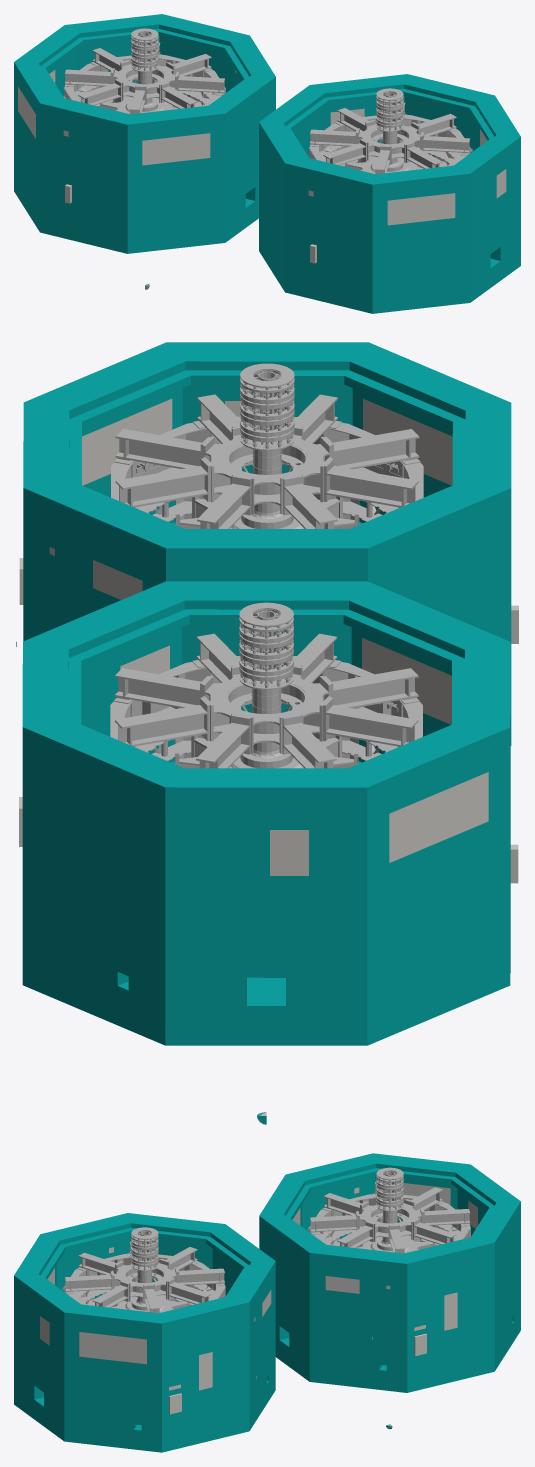
The picture shows the model from 3 angles, top to bottom: view 1: azimuth 30°, elevation 25°; view 2: azimuth 150°, elevation 25°; view 3: azimuth 270°, elevation 25°; orthographic projection. The views are drawn at different scales.
Parts seen in each view (by area): view 1: 15WFXxn1TF6ABc9czwsPRP, 1MUNnhlo1FWRGES8GHzE55, 24WrlE$fT53xBG2T$ta1FU; view 2: 15WFXxn1TF6ABc9czwsPRP, 1MUNnhlo1FWRGES8GHzE55, 24WrlE$fT53xBG2T$ta1FU; view 3: 15WFXxn1TF6ABc9czwsPRP, 1MUNnhlo1FWRGES8GHzE55, 24WrlE$fT53xBG2T$ta1FU.
Boxes of the visible parts, x1=… form: 15WFXxn1TF6ABc9czwsPRP: x1=14, y1=14, x2=520, y2=313; 1MUNnhlo1FWRGES8GHzE55: x1=64, y1=28, x2=472, y2=289; 24WrlE$fT53xBG2T$ta1FU: x1=18, y1=70, x2=506, y2=287; 15WFXxn1TF6ABc9czwsPRP: x1=22, y1=342, x2=511, y2=1124; 1MUNnhlo1FWRGES8GHzE55: x1=110, y1=363, x2=423, y2=1124; 24WrlE$fT53xBG2T$ta1FU: x1=19, y1=398, x2=518, y2=1112; 15WFXxn1TF6ABc9czwsPRP: x1=14, y1=1153, x2=520, y2=1452; 1MUNnhlo1FWRGES8GHzE55: x1=62, y1=1167, x2=470, y2=1428; 24WrlE$fT53xBG2T$ta1FU: x1=40, y1=1183, x2=477, y2=1427.
Bounding box in the file's own units: 20.65 × 14.44 × 25.98.
